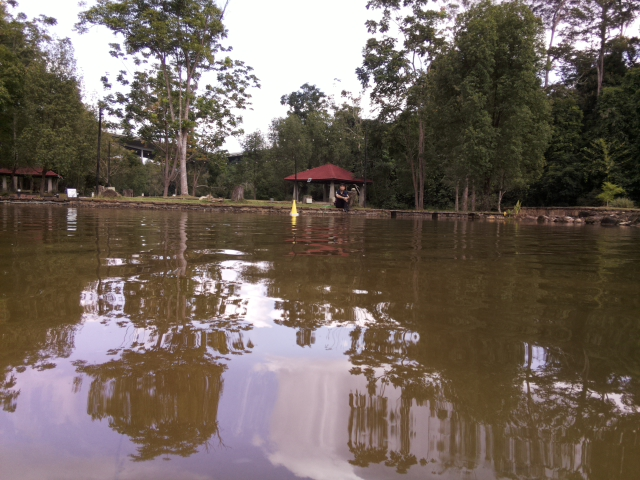checkpoint: (287, 199, 300, 217)
